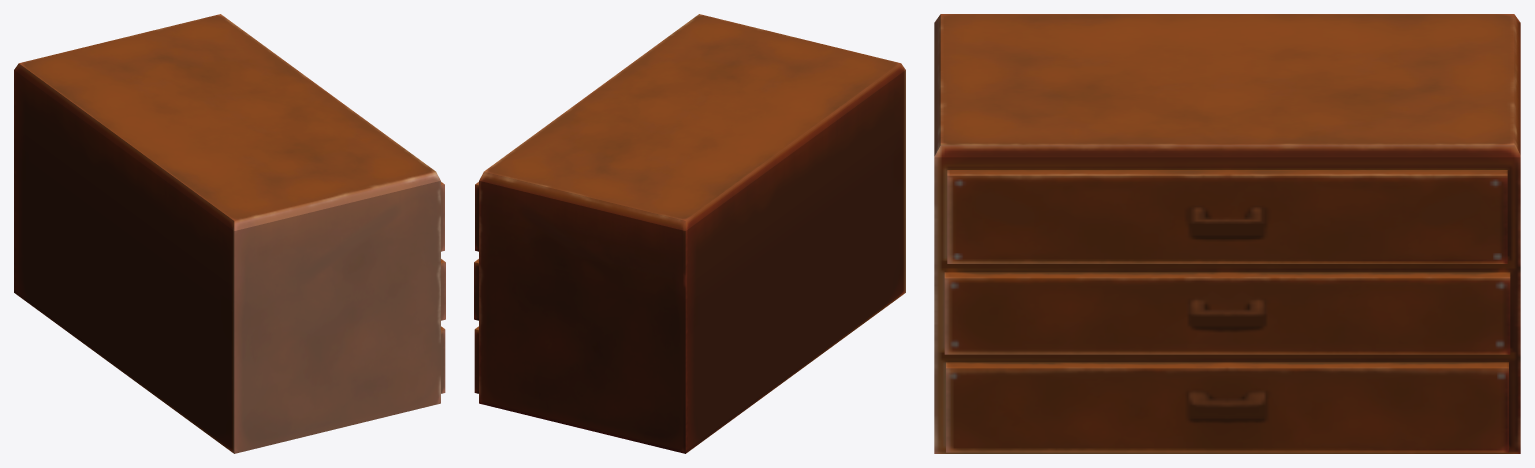
The model's file is Unterschrank.glb.
3 renders of one model, left to right at view 1: azimuth 30°, elevation 25°; view 2: azimuth 150°, elevation 25°; view 3: azimuth 270°, elevation 25°, orthographic. The views are drawn at different scales.
Parts seen in each view (by area): view 1: UnterschrankLP; view 2: UnterschrankLP; view 3: UnterschrankLP.
Boxes of the visible parts, x1,y1,x2,y2 form: UnterschrankLP: (14,14,445,453); UnterschrankLP: (474,14,905,453); UnterschrankLP: (934,14,1520,453).
Size of the model in its own units: 2.09 by 2.13 by 3.69.
Materials: 1 (1 with a texture image).
